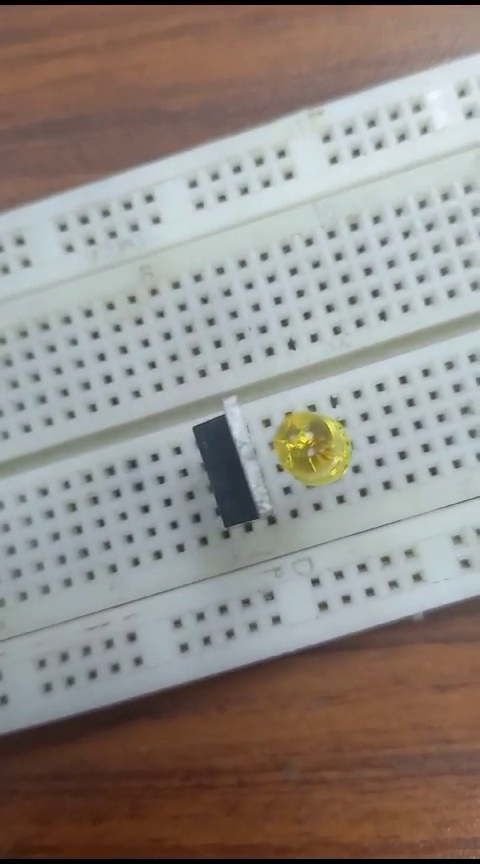LED: (278, 415, 347, 484)
voltage regulator: (187, 396, 274, 539)
